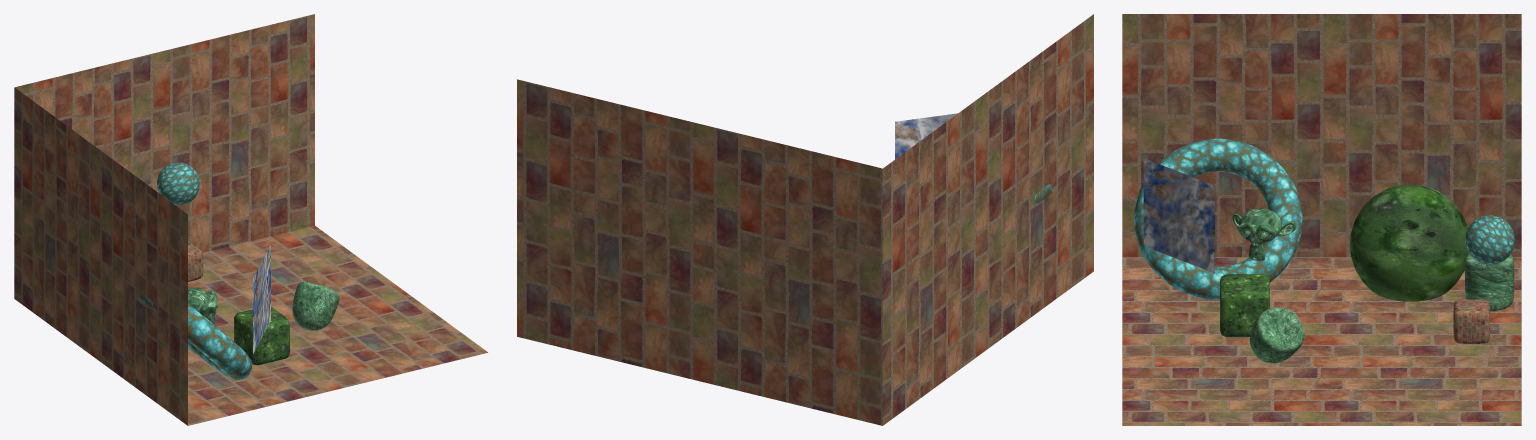
3 views of the same model, side by side, from view 1: azimuth 30°, elevation 25°; view 2: azimuth 150°, elevation 25°; view 3: azimuth 270°, elevation 25° (orthographic). The views are drawn at different scales.
Parts seen in each view (by area): view 1: Plane, Torus, Cube, Cube_002, Icosphere, Plane_001, Suzanne, Cube_001; view 2: Plane, Plane_001; view 3: Plane, Sphere, Torus, Plane_001, Cube, Cube_002, Cylinder, Icosphere, Suzanne, Cube_001.
Boxes of the visible parts, left/top/right/bottom form: Plane: left=14, top=14, right=487, bottom=425; Torus: left=139, top=293, right=251, bottom=380; Cube: left=234, top=307, right=289, bottom=365; Cube_002: left=292, top=281, right=339, bottom=330; Icosphere: left=157, top=162, right=199, bottom=205; Plane_001: left=253, top=244, right=270, bottom=354; Suzanne: left=188, top=287, right=217, bottom=324; Cube_001: left=188, top=242, right=203, bottom=281; Plane: left=517, top=14, right=1093, bottom=425; Plane_001: left=895, top=113, right=957, bottom=159; Plane: left=1122, top=14, right=1521, bottom=425; Sphere: left=1350, top=184, right=1468, bottom=301; Torus: left=1134, top=138, right=1302, bottom=299; Plane_001: left=1143, top=158, right=1214, bottom=273; Cube: left=1220, top=274, right=1269, bottom=336; Cube_002: left=1249, top=307, right=1304, bottom=363; Cylinder: left=1465, top=254, right=1514, bottom=311; Icosphere: left=1465, top=215, right=1514, bottom=264; Suzanne: left=1232, top=208, right=1296, bottom=260; Cube_001: left=1453, top=299, right=1489, bottom=343.
Size of the model in its own units: 16.01 by 15.96 by 11.39.
5 materials, 5 textured.
